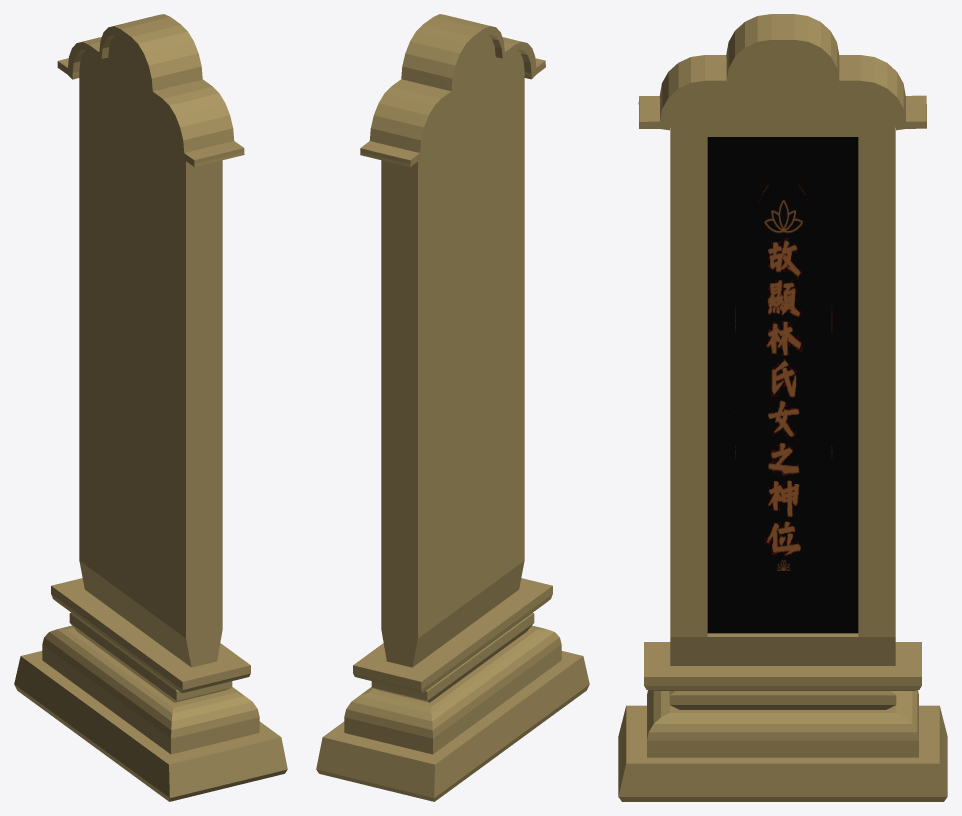
The model's file is Memorial_tablet_0611.fbx.
3 renders of one model, left to right at view 1: azimuth 30°, elevation 25°; view 2: azimuth 150°, elevation 25°; view 3: azimuth 270°, elevation 25°, orthographic. The views are drawn at different scales.
Parts seen in each view (by area): view 1: Memorial_tablet; view 2: Memorial_tablet; view 3: Memorial_tablet, Plane.002.
Part boxes in pixels (x1,y1,x2,y2): Memorial_tablet: [14, 14, 287, 801]; Memorial_tablet: [316, 14, 589, 801]; Memorial_tablet: [618, 14, 947, 801]; Plane.002: [707, 137, 858, 633].
Size of the model in its own units: 69.43 by 397 by 159.
